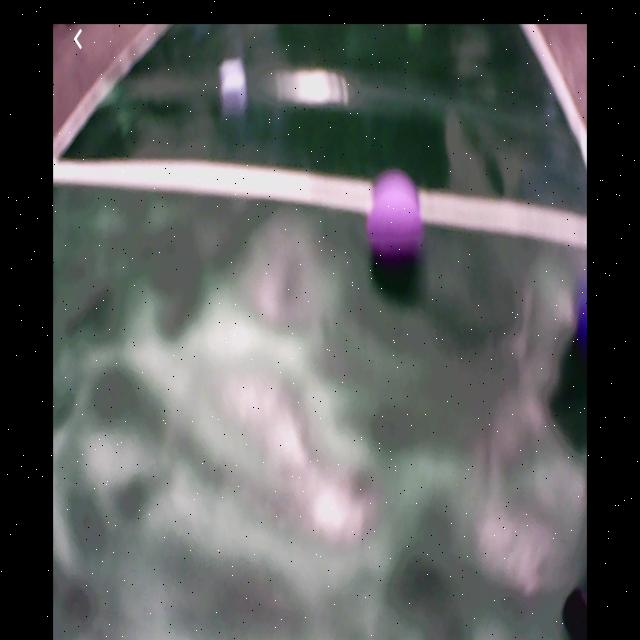ball: (369, 179, 425, 257), (577, 272, 589, 353)
